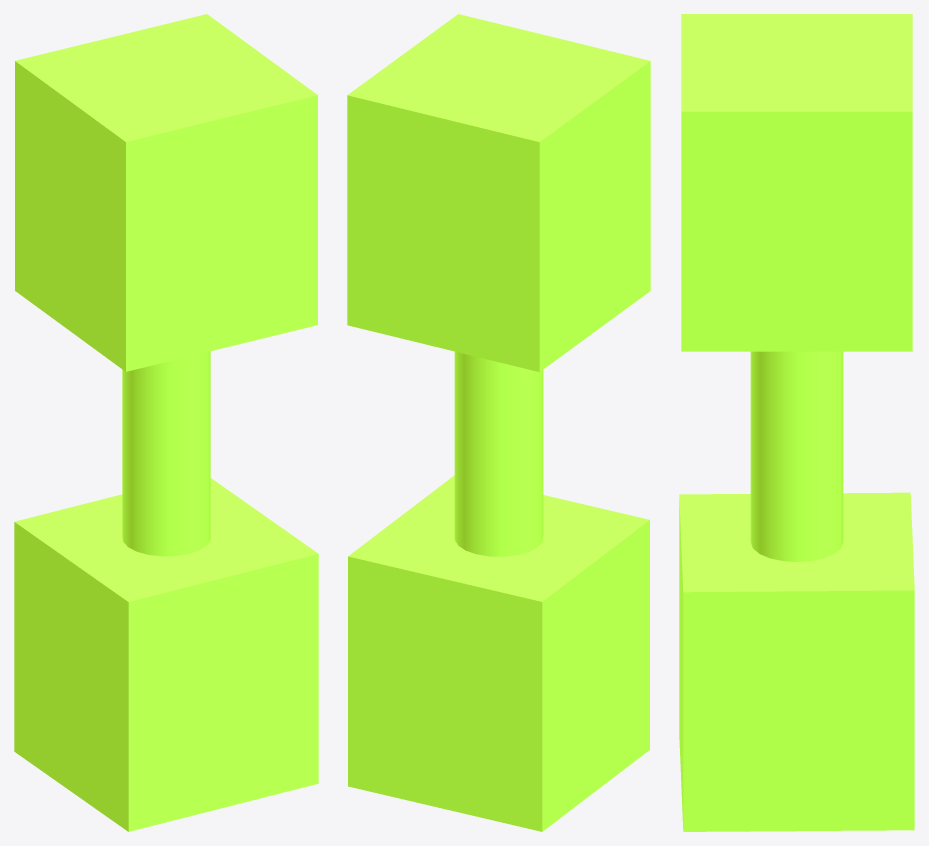
The model's file is robot_object_green.dae.
3 views of the same model, side by side, from view 1: azimuth 30°, elevation 25°; view 2: azimuth 150°, elevation 25°; view 3: azimuth 270°, elevation 25° (orthographic). The views are drawn at different scales.
Parts seen in each view (by area): view 1: dumbell; view 2: dumbell; view 3: dumbell.
Part boxes in pixels (box(x1,y1,x2,y2)): dumbell: box(14, 14, 318, 831); dumbell: box(347, 14, 650, 831); dumbell: box(679, 14, 914, 831).
Size of the model in its own units: 4.52 by 15.24 by 4.52.
